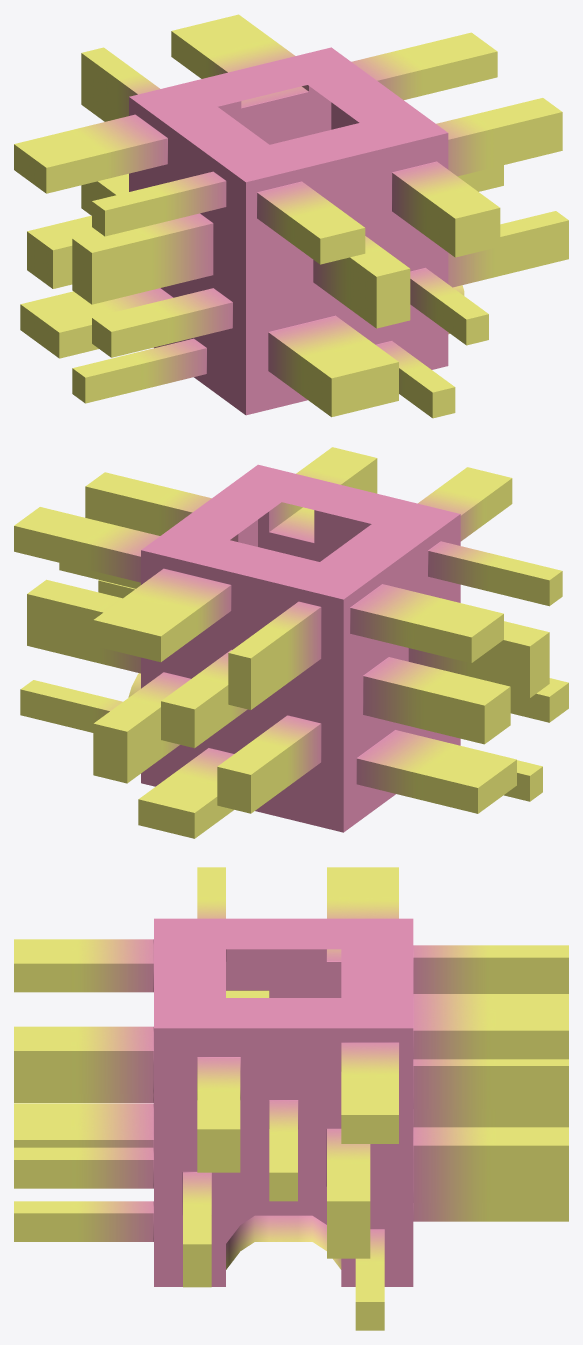
Rendered from cubby-room_edit_v2.fbx.
3 renders of one model, top to bottom at view 1: azimuth 30°, elevation 25°; view 2: azimuth 150°, elevation 25°; view 3: azimuth 270°, elevation 25°, orthographic. The views are drawn at different scales.
Visible parts, largest first — view 1: Cubby_Room_V1; view 2: Cubby_Room_V1; view 3: Cubby_Room_V1.
Boxes of the visible parts, x1=… form: Cubby_Room_V1: x1=14, y1=14, x2=568, y2=418; Cubby_Room_V1: x1=14, y1=447, x2=568, y2=838; Cubby_Room_V1: x1=14, y1=867, x2=568, y2=1330.
Bounding box in the file's own units: 1130 × 550 × 1070.
